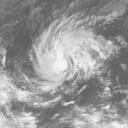cyclone: (32, 13, 107, 82)
